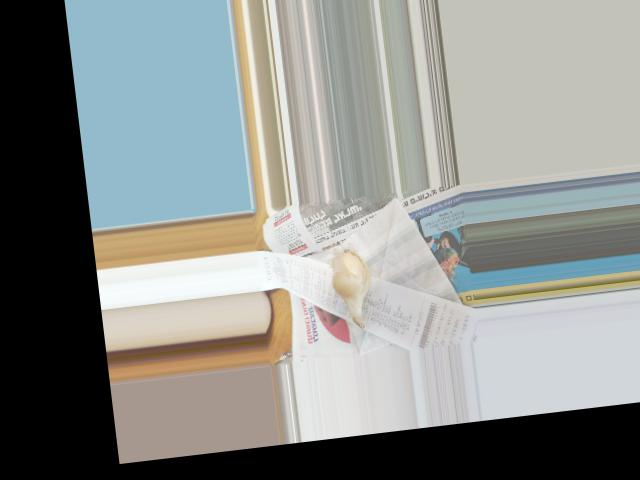onion: (332, 248, 374, 321)
